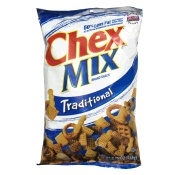grozi_2: (35, 7, 141, 168)
